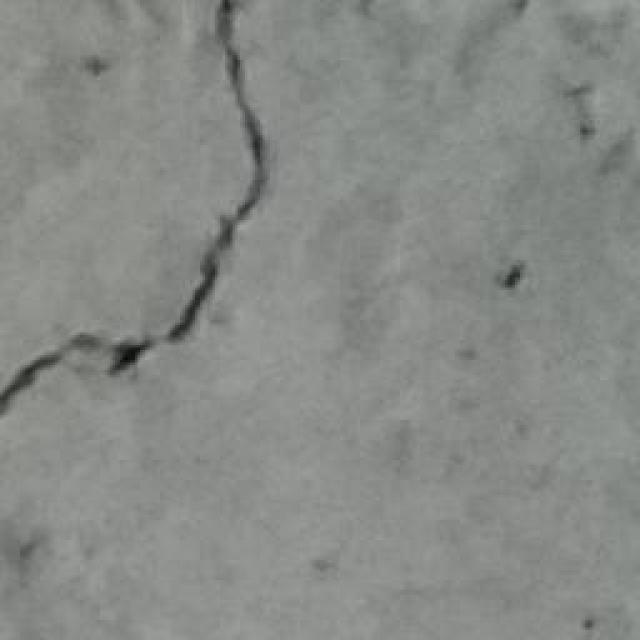Longitudinal: (0, 0, 300, 432)
